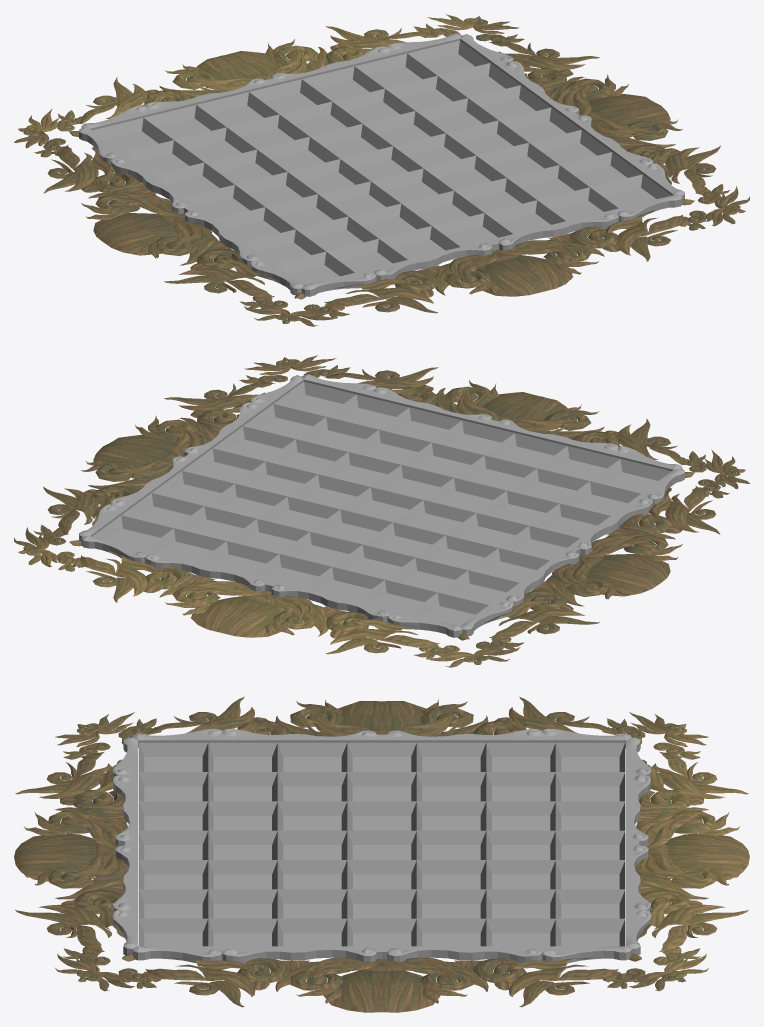
File: marco 7x7.fbx
The picture shows the model from 3 angles, top to bottom: view 1: azimuth 30°, elevation 25°; view 2: azimuth 150°, elevation 25°; view 3: azimuth 270°, elevation 25°; orthographic projection. The views are drawn at different scales.
Parts seen in each view (by area): view 1: top9; view 2: top9; view 3: top9.
Boxes of the visible parts, x1,y1,x2,y2 form: top9: (14, 14, 749, 326); top9: (14, 355, 749, 667); top9: (14, 696, 749, 1012).
Size of the model in its own units: 188 by 4.96 by 188.
